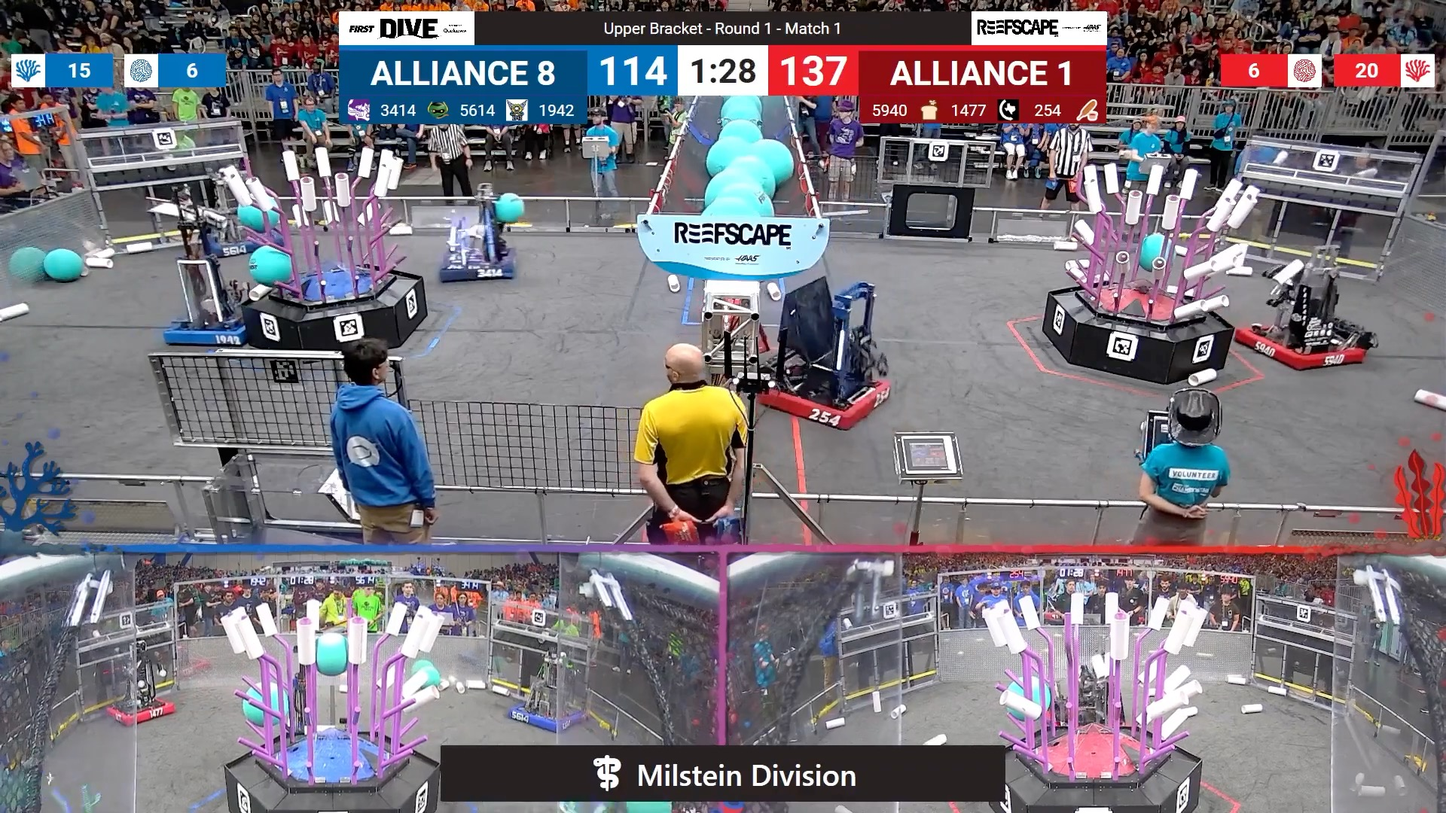bumpers: (752, 367, 903, 432), (1230, 316, 1378, 377), (160, 302, 254, 349), (435, 242, 526, 285), (502, 697, 590, 736), (98, 695, 180, 728)
